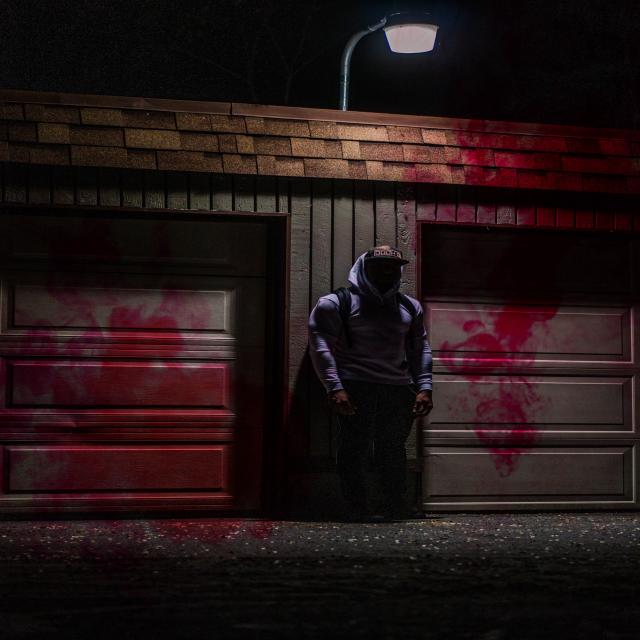adult: (304, 244, 434, 518)
